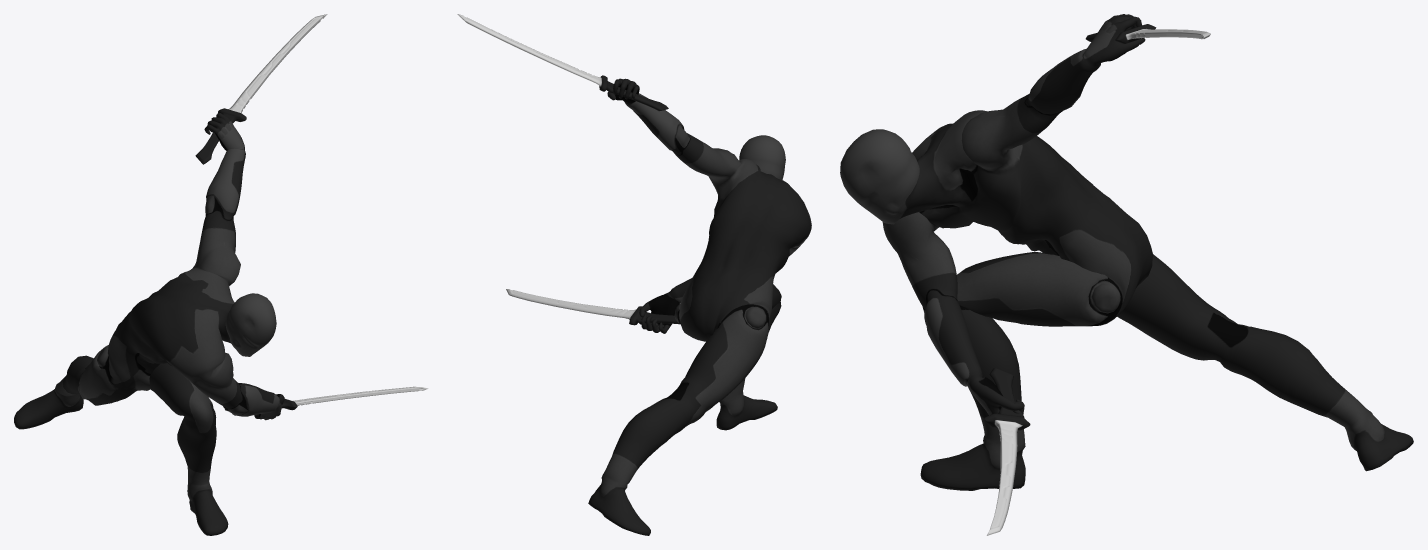
The picture shows the model from 3 angles, left to right: view 1: azimuth 30°, elevation 25°; view 2: azimuth 150°, elevation 25°; view 3: azimuth 270°, elevation 25°; orthographic projection. The views are drawn at different scales.
Parts seen in each view (by area): view 1: Cyborg_Ninja_Killer, Sword_l, Sword_l001; view 2: Cyborg_Ninja_Killer, Sword_l, Sword_l001; view 3: Cyborg_Ninja_Killer, Sword_l001, Sword_l.
Part boxes in pixels (x1,y1,x2,y2): Cyborg_Ninja_Killer: [14, 113, 284, 535]; Sword_l: [195, 14, 327, 164]; Sword_l001: [232, 386, 428, 415]; Cyborg_Ninja_Killer: [588, 78, 811, 535]; Sword_l: [457, 14, 668, 111]; Sword_l001: [506, 289, 680, 325]; Cyborg_Ninja_Killer: [840, 14, 1413, 490]; Sword_l001: [984, 368, 1030, 535]; Sword_l: [1085, 24, 1210, 43].
Size of the model in its own units: 133 by 175 by 155.
Materials: 2 (2 with a texture image).
